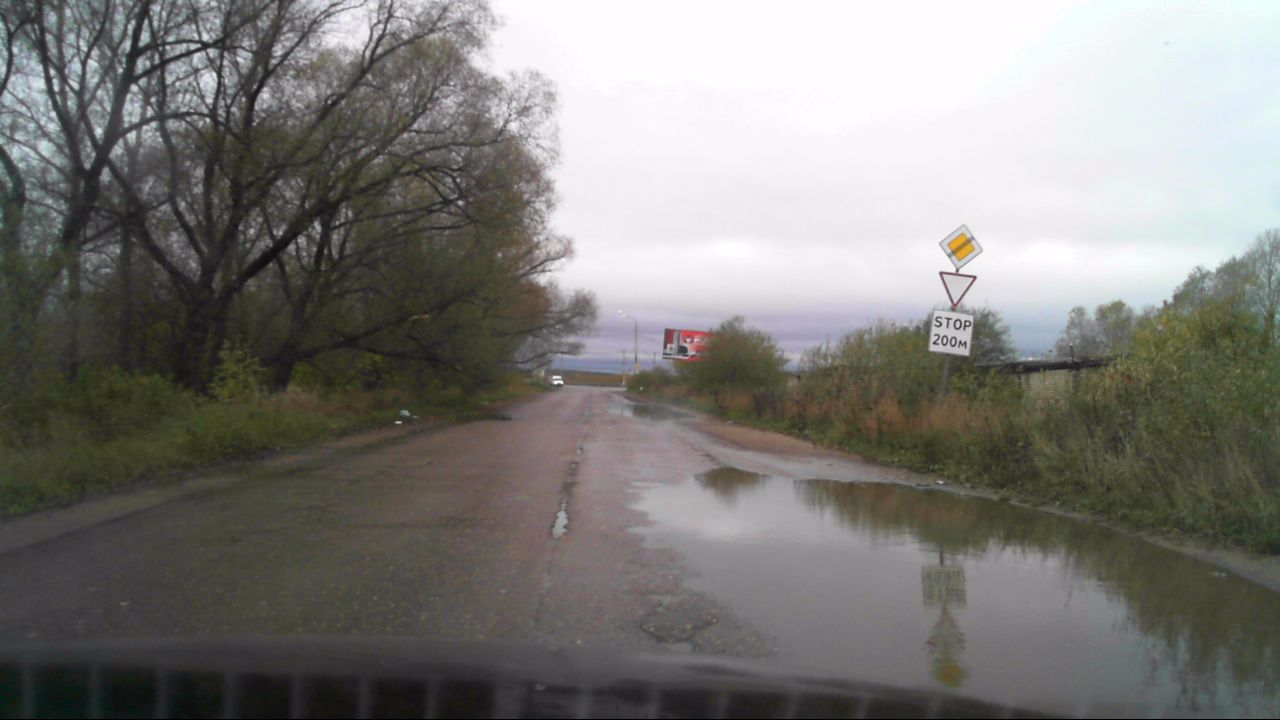main road: (938, 224, 982, 271)
